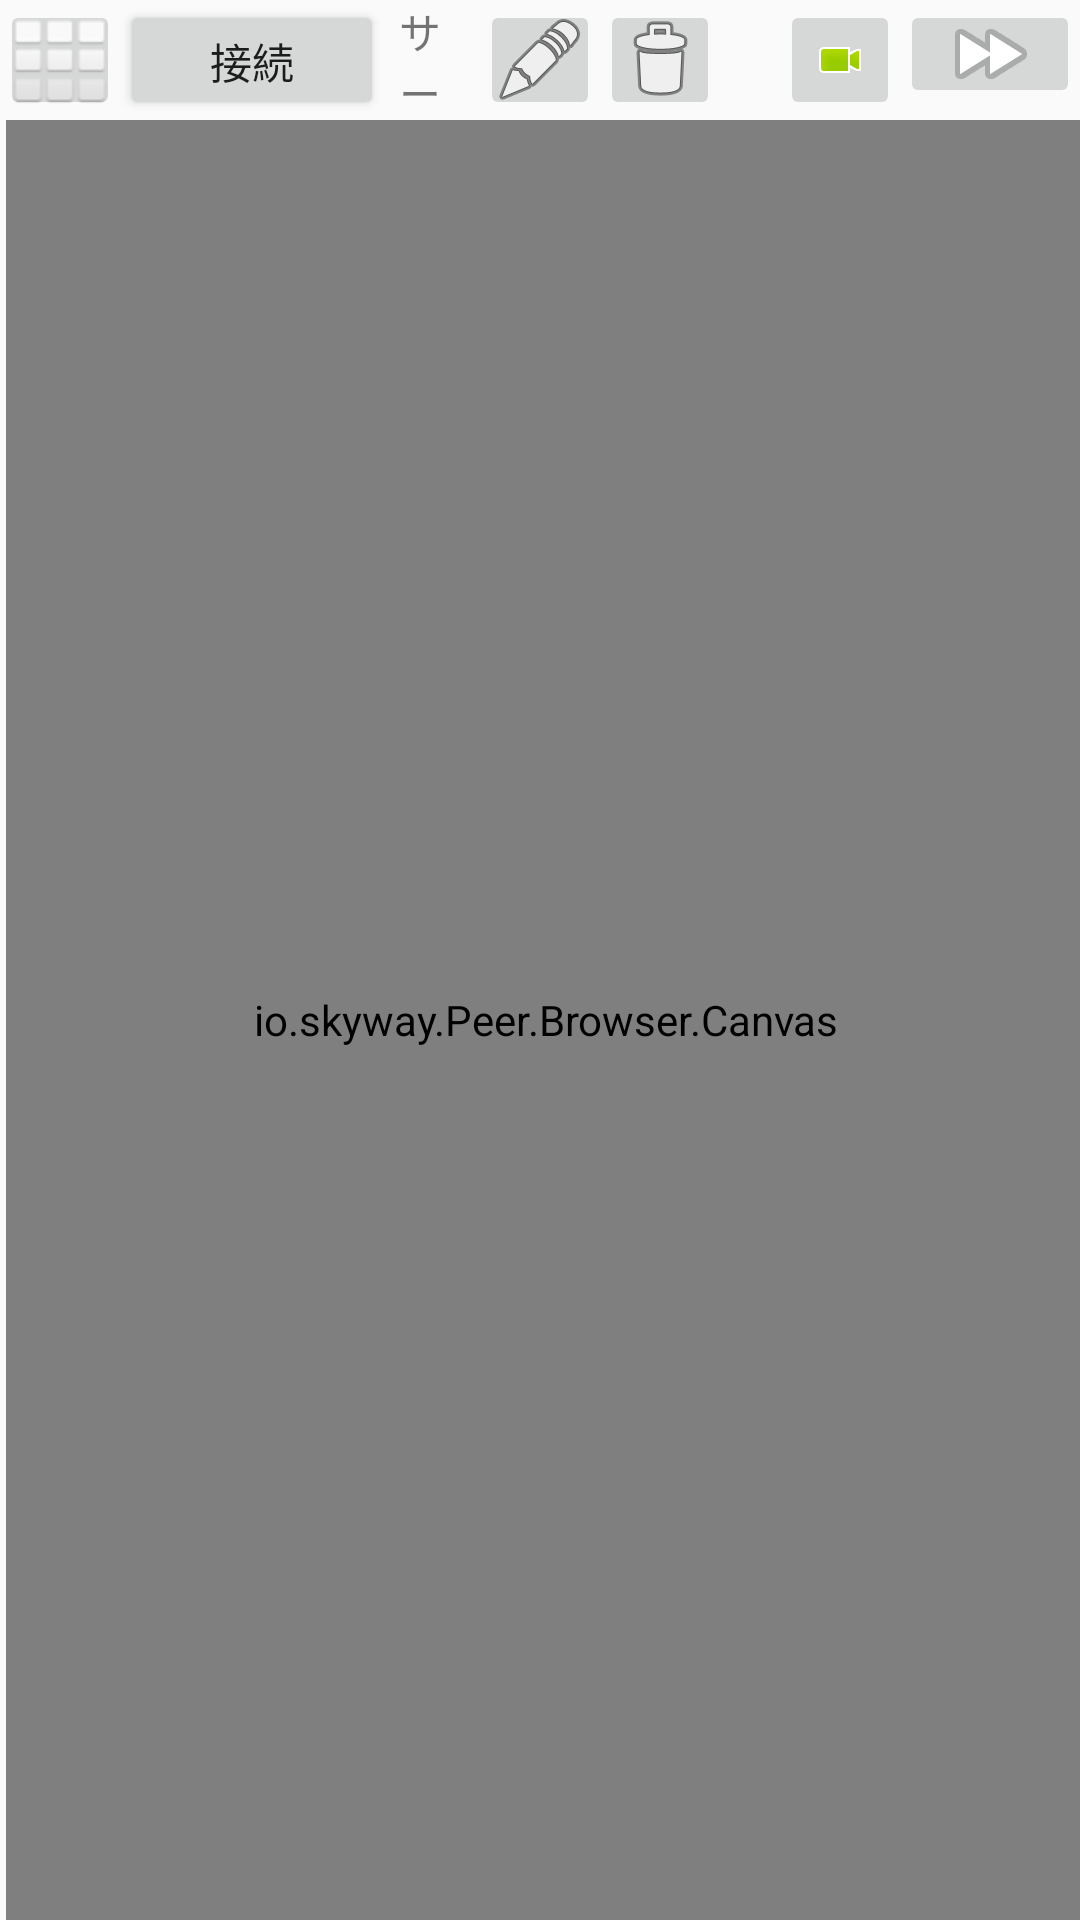

Screen size 1080px×1920px. Icon name, then its box in pixels as bbox=(x1, y1, x2, y2):
delete: bbox=(612, 18, 708, 102)
dialer: bbox=(12, 18, 108, 103)
edit: bbox=(492, 18, 588, 102)
presence video online: bbox=(792, 18, 888, 102)
